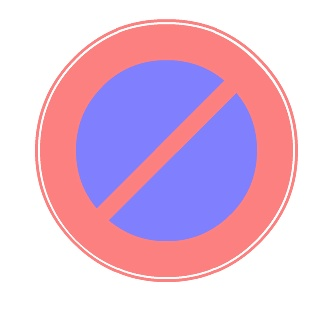Prohibition_sign: (26, 6, 299, 306)
